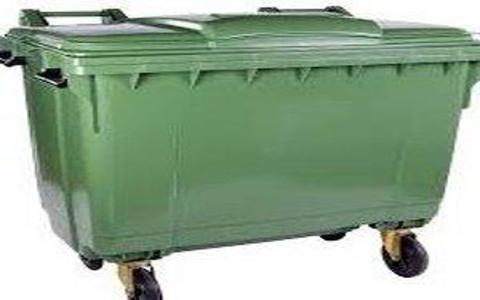Proper garbage: (5, 1, 475, 297)
